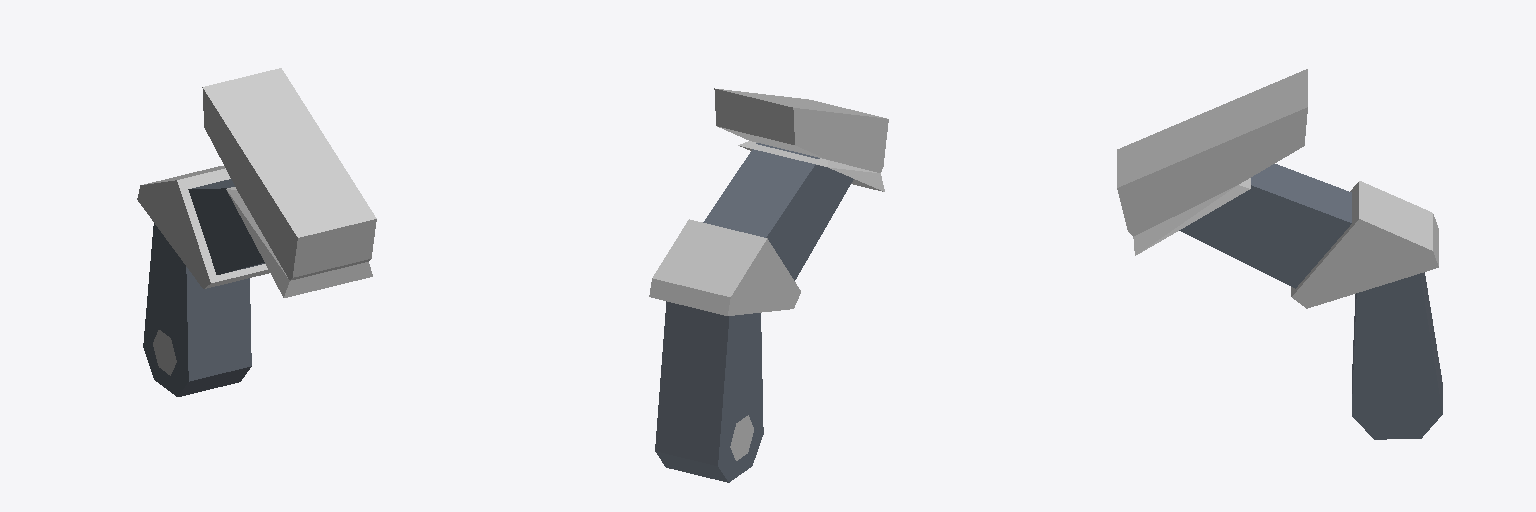
File: leg_upper_R.obj
The picture shows the model from 3 angles: view 1: azimuth 30°, elevation 25°; view 2: azimuth 150°, elevation 25°; view 3: azimuth 270°, elevation 25°; orthographic projection.
Visible parts, largest first — view 1: robo_Untitled.015; view 2: robo_Untitled.015; view 3: robo_Untitled.015.
Boxes of the visible parts, box(x1,y1,x2,y2) form: robo_Untitled.015: box(137, 68, 376, 396); robo_Untitled.015: box(649, 88, 888, 482); robo_Untitled.015: box(1117, 69, 1442, 439).
Size of the model in its own units: 0.3394 by 1.22 by 1.07.